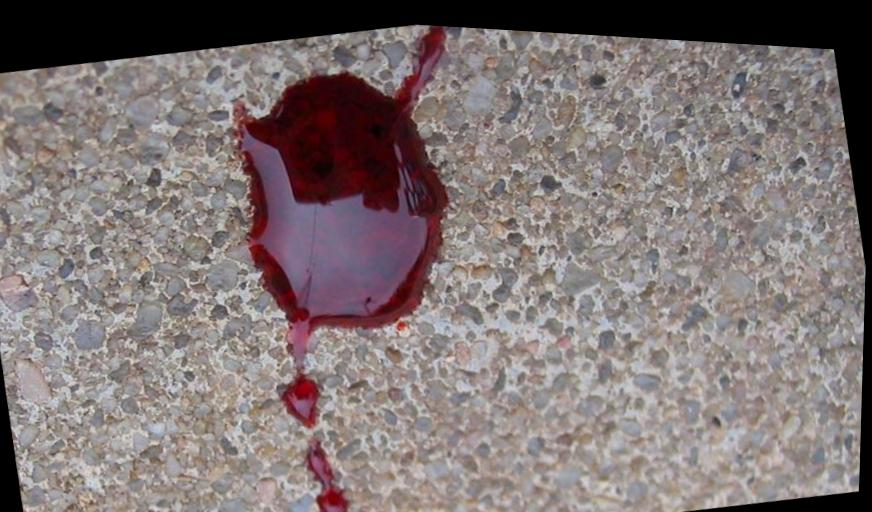Fire: (233, 20, 450, 425), (308, 434, 354, 512)
